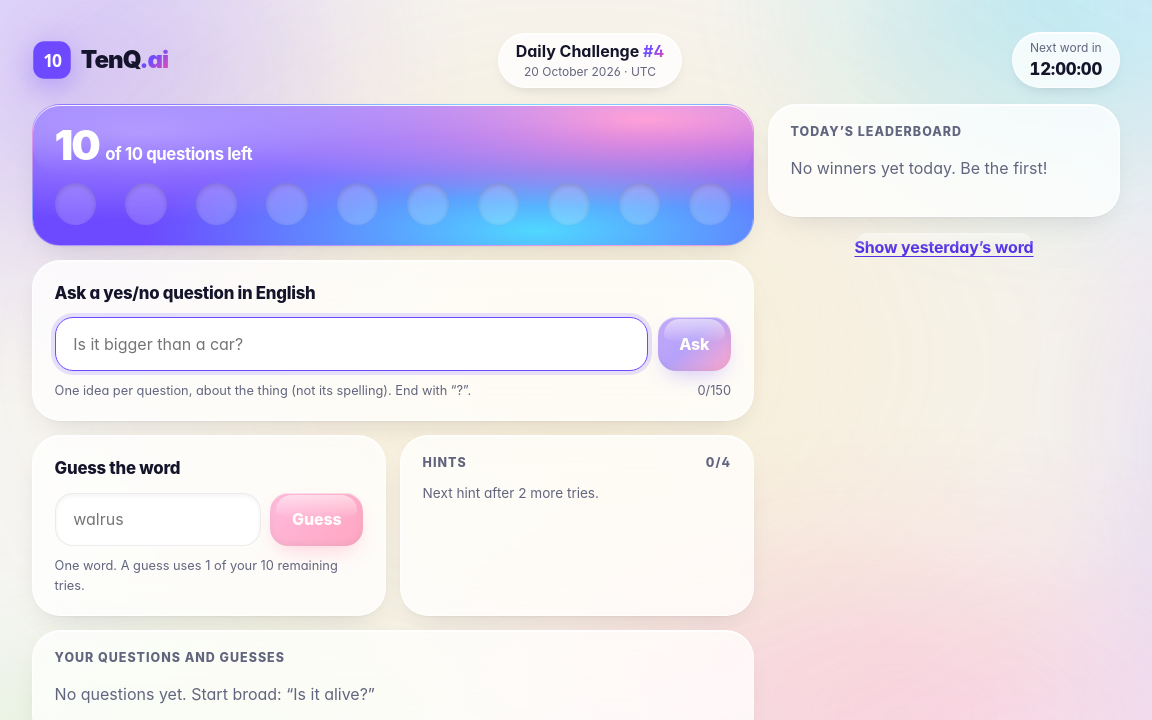
Test: asking questions › explains invalid questions without charging
The width and height of the screenshot is (1152, 720).
Step 1. Type "Is it alive" into the field labelled "Ask a yes/no question in English" → (351, 344), box [55,317,648,370]
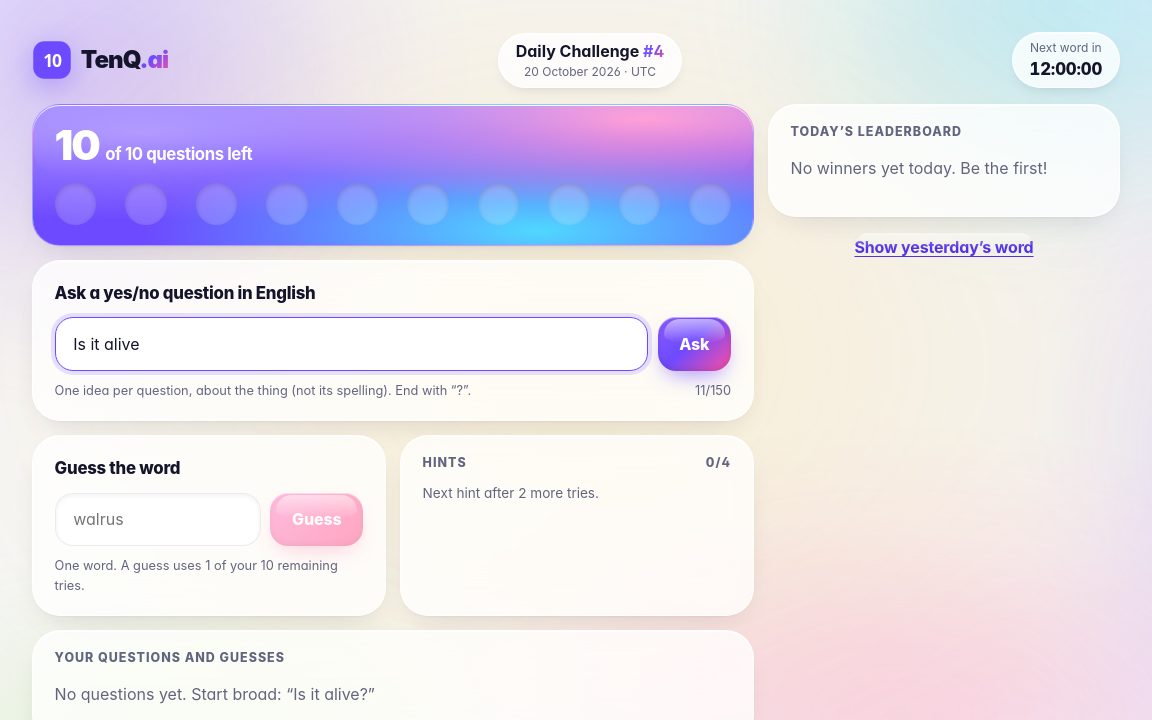
Step 2. Click the button "Ask" → (694, 344), box [658,317,731,370]
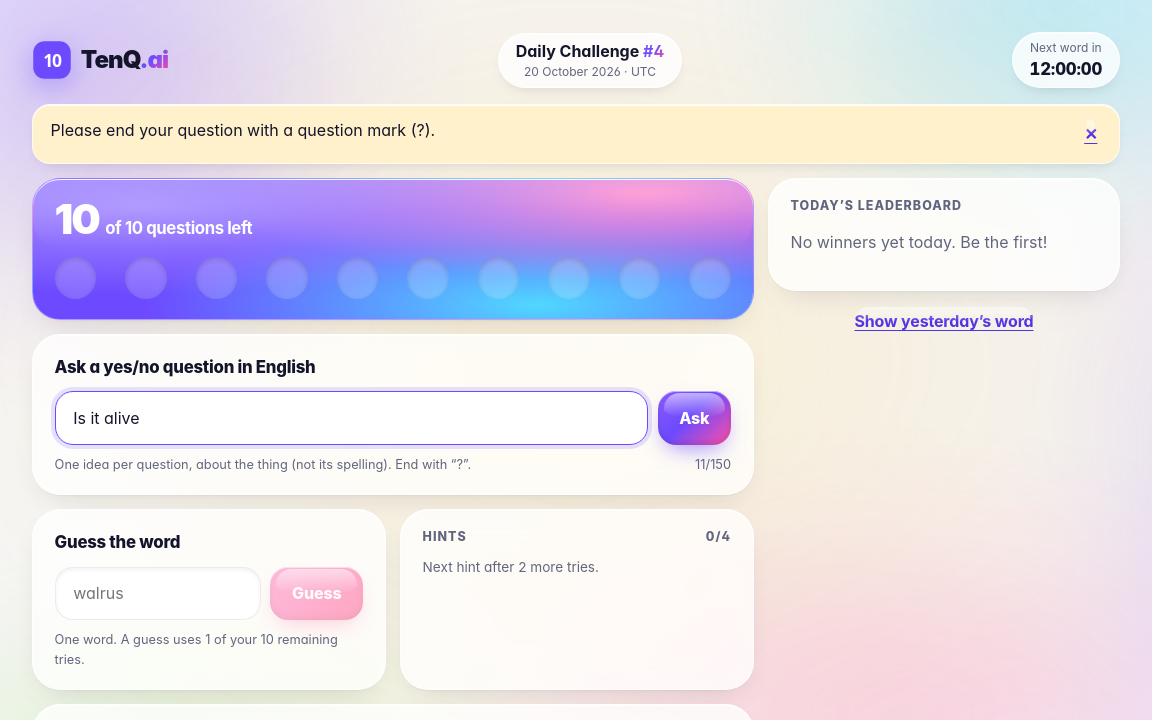
Expected: the heading "10 of 10 questions left" is shown, [55,194,252,244]
Result: the text "Please end your question with a question mark (?)." is shown at [51,118,435,142]
